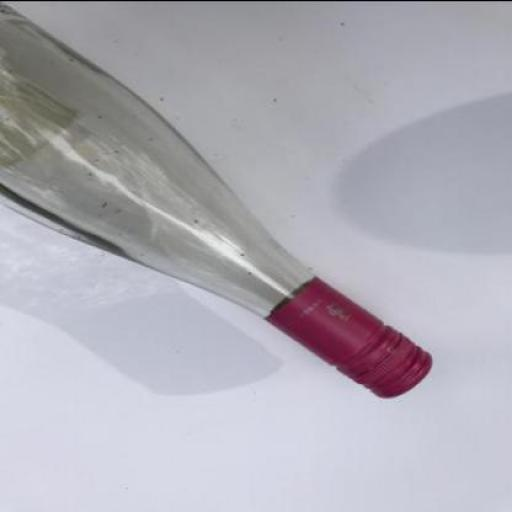glass: (0, 1, 380, 365)
metal: (342, 330, 430, 400)
